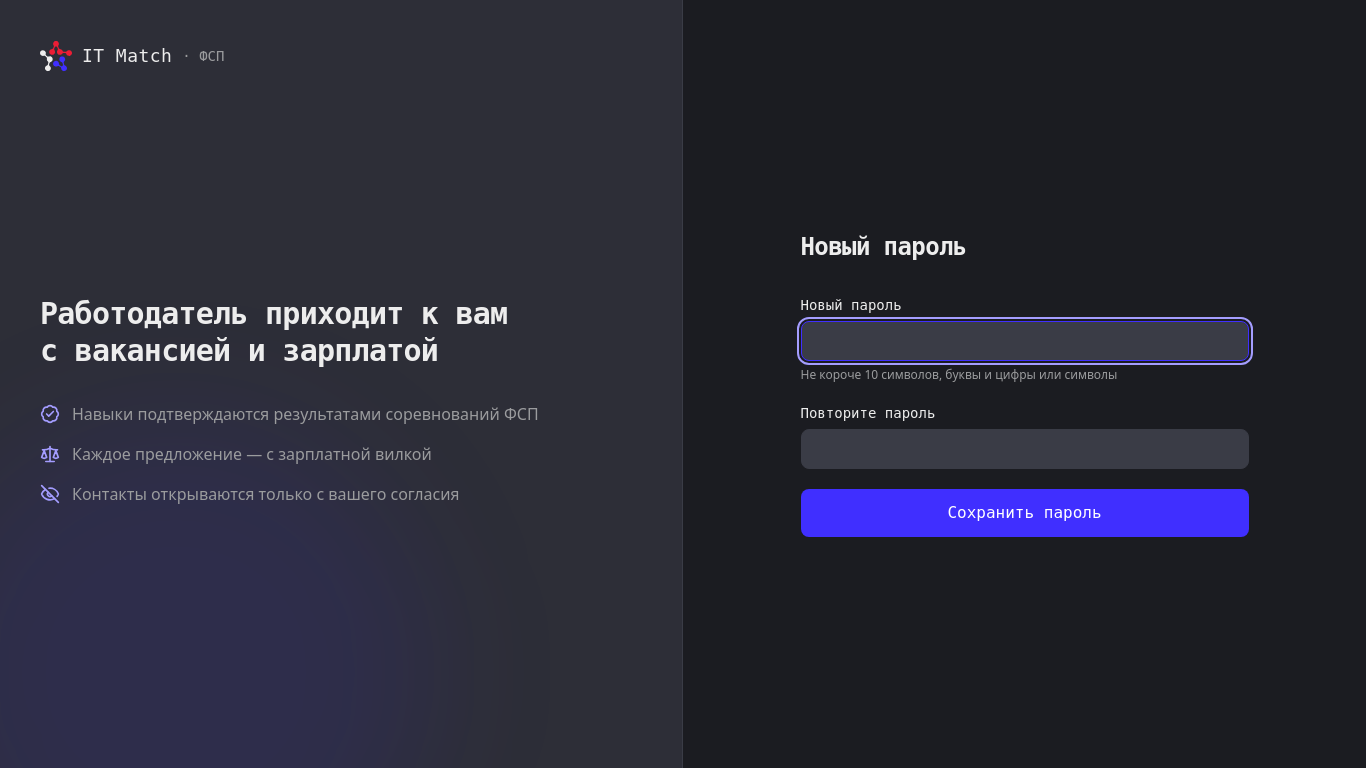
Test: password recovery › sets a new password after validating the confirmation
Type "N3w-strong-pass" into the password field labelled "Новый пароль" at (1024, 341), box [800, 321, 1248, 361]
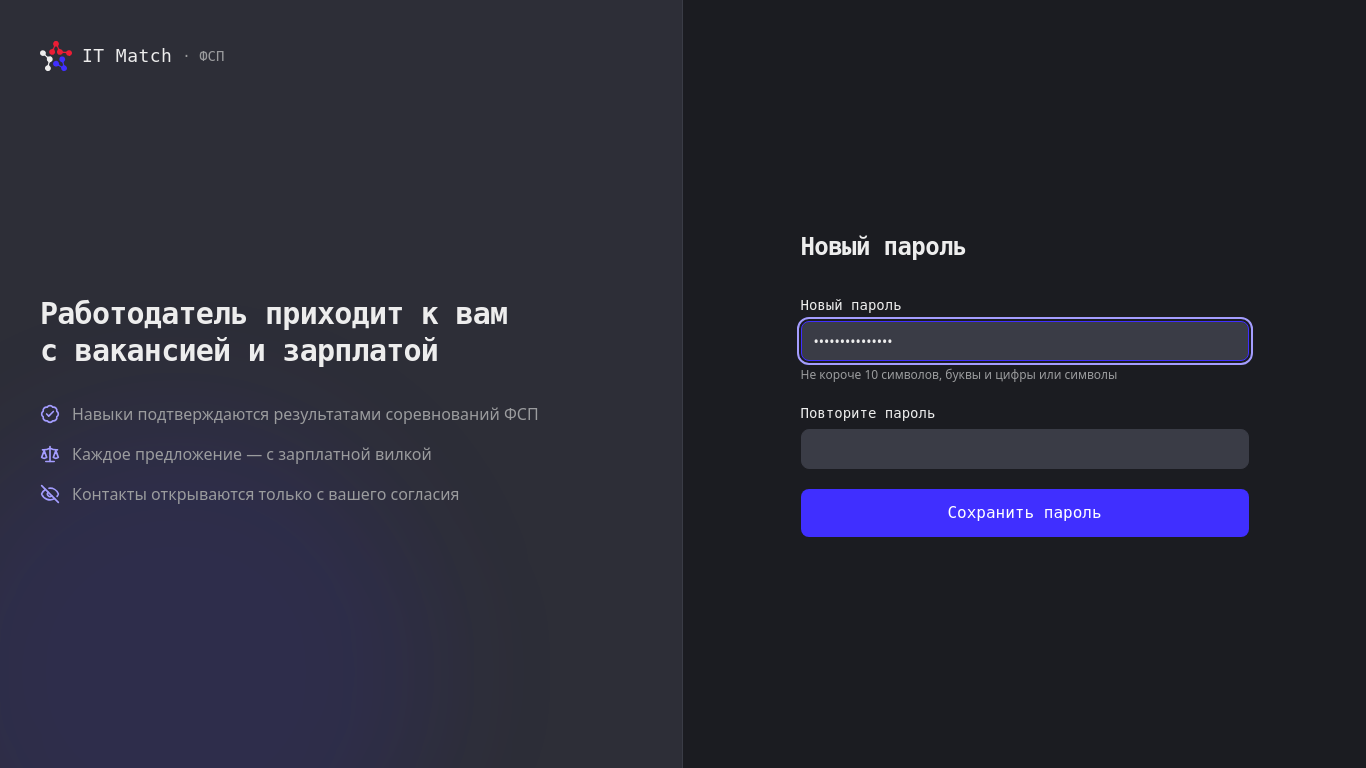
Type "другой-пароль" into the password field labelled "Повторите пароль" at (1024, 449), box [800, 429, 1248, 469]
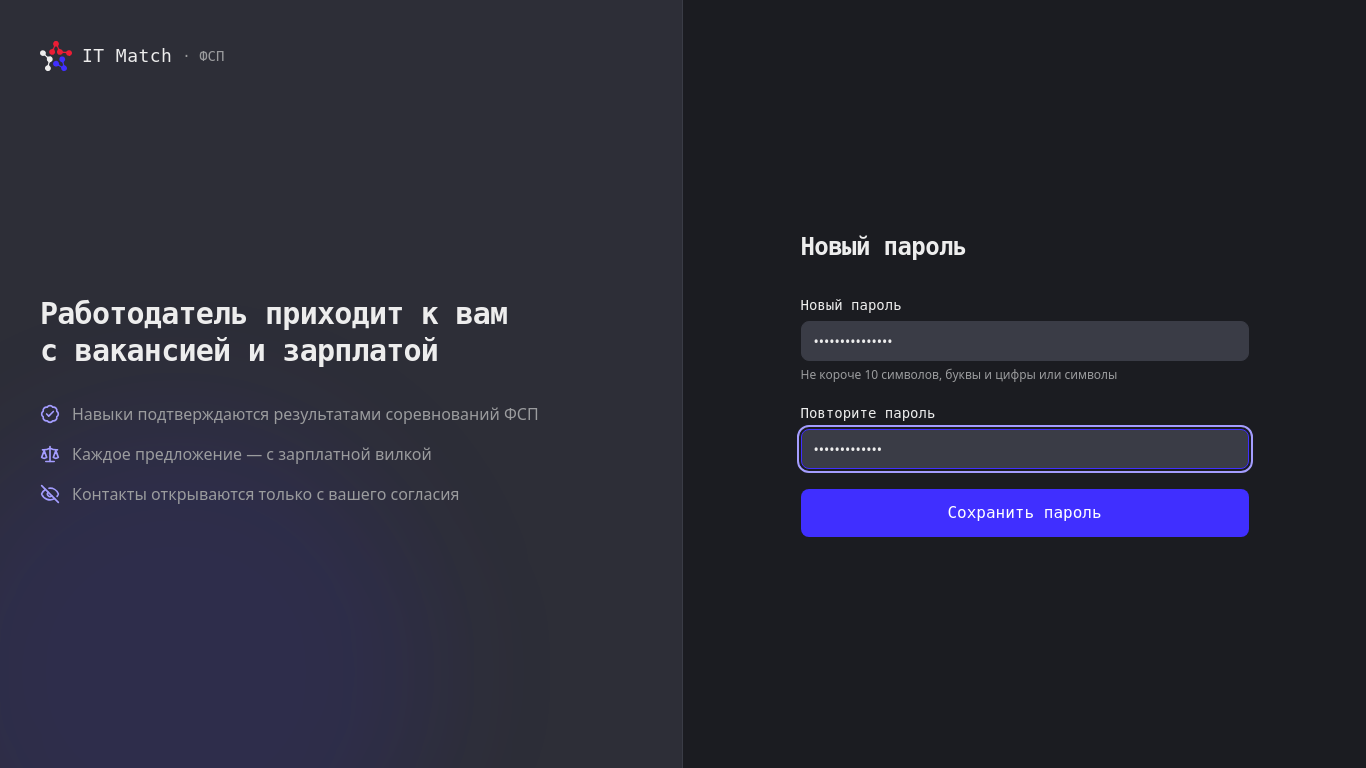
Click the button "Сохранить пароль" at (1024, 513), box [800, 489, 1248, 537]
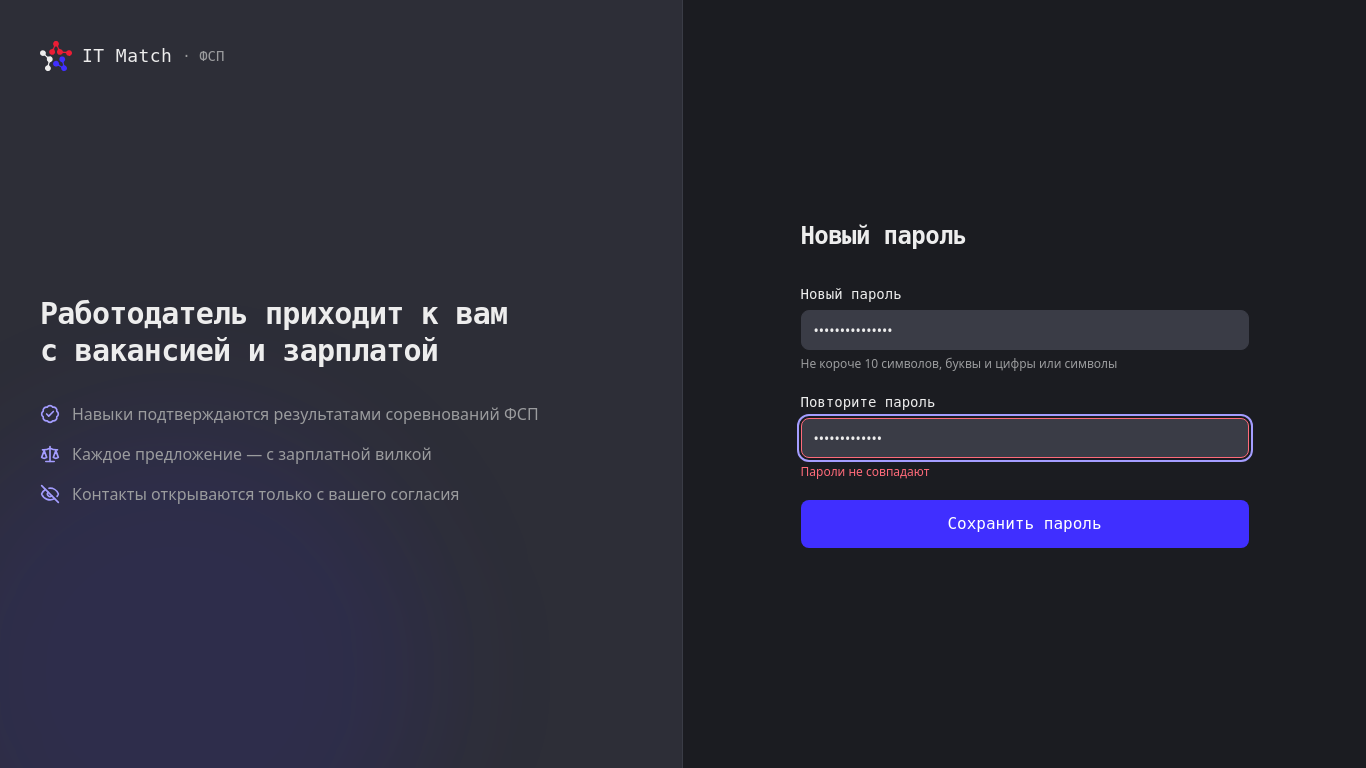
Check: the text "Пароли не совпадают" is shown, box [800, 463, 929, 480]
Type "N3w-strong-pass" into the password field labelled "Повторите пароль" at (1024, 438), box [800, 418, 1248, 458]
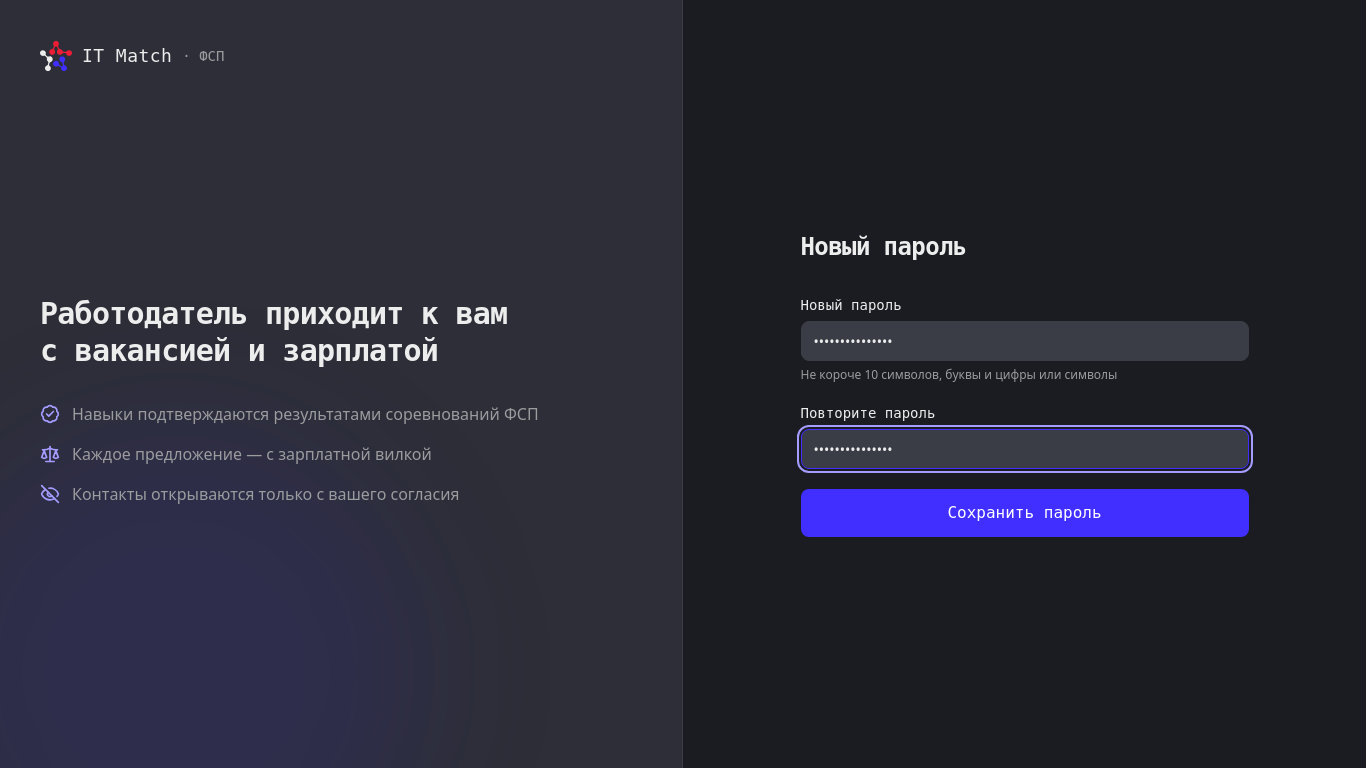
Click the button "Сохранить пароль" at (1024, 513), box [800, 489, 1248, 537]
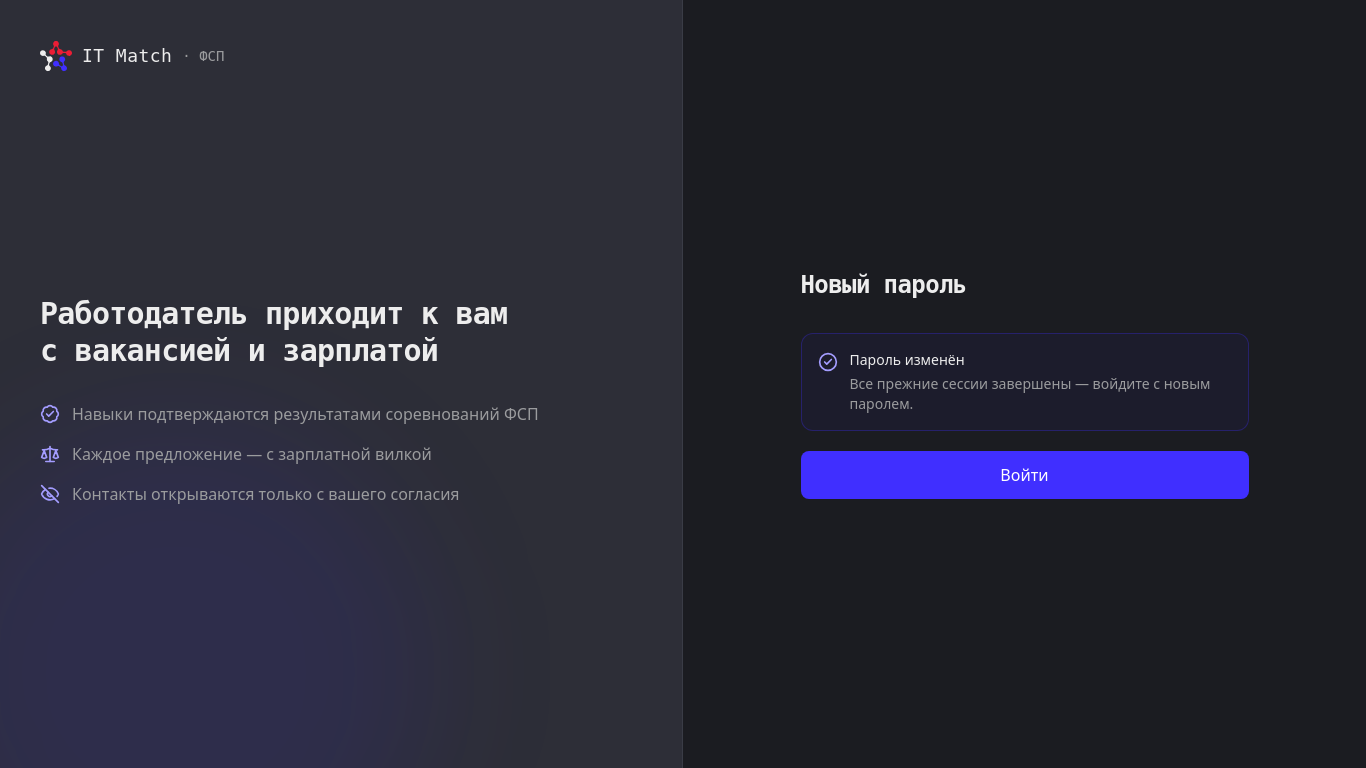
Check: the text "Пароль изменён" is shown, box [850, 350, 965, 369]
